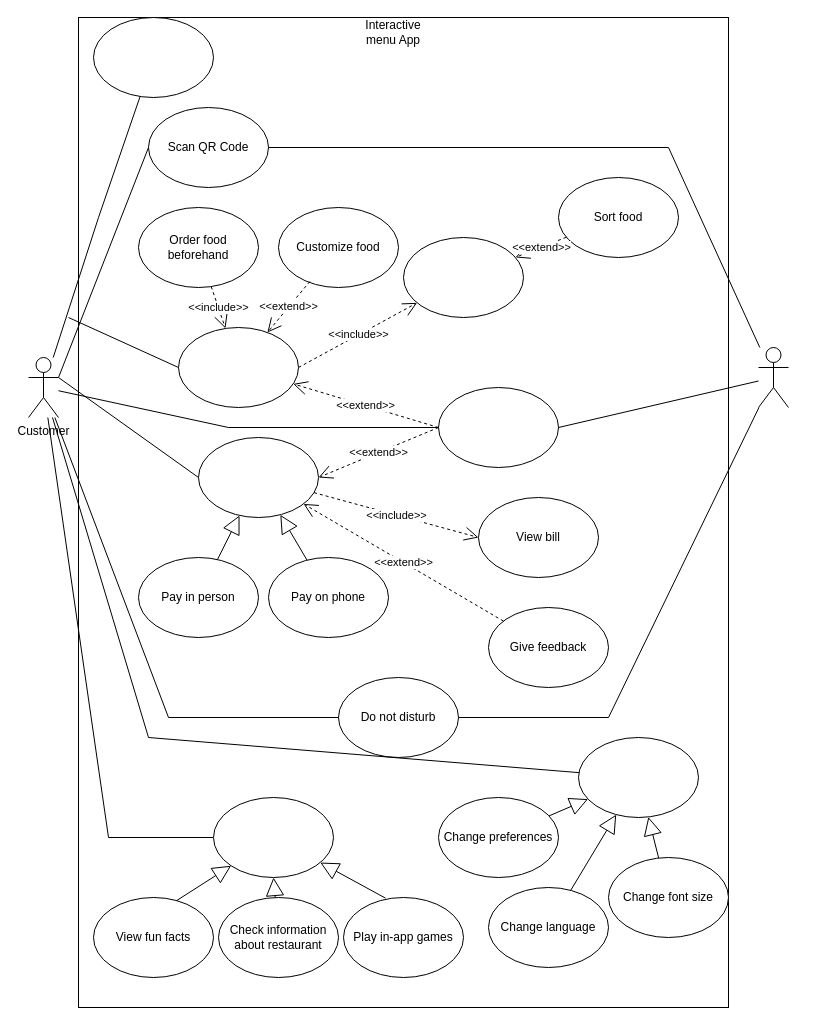
Image size: 820x1025. Some labels were removed from this diagram. The centre of each missing label's shape, as x and y in pixels:
"Browse through menu" belongs at point (463, 277).
"Call a waiter" belongs at point (498, 427).
"Change settings" belongs at point (638, 777).
"Get entertainment" belongs at point (273, 837).
"Order food" belongs at point (238, 367).
"Pay for food" belongs at point (258, 477).
"Restaurant" belongs at point (773, 377).
"Set preferences" belongs at point (153, 57).
